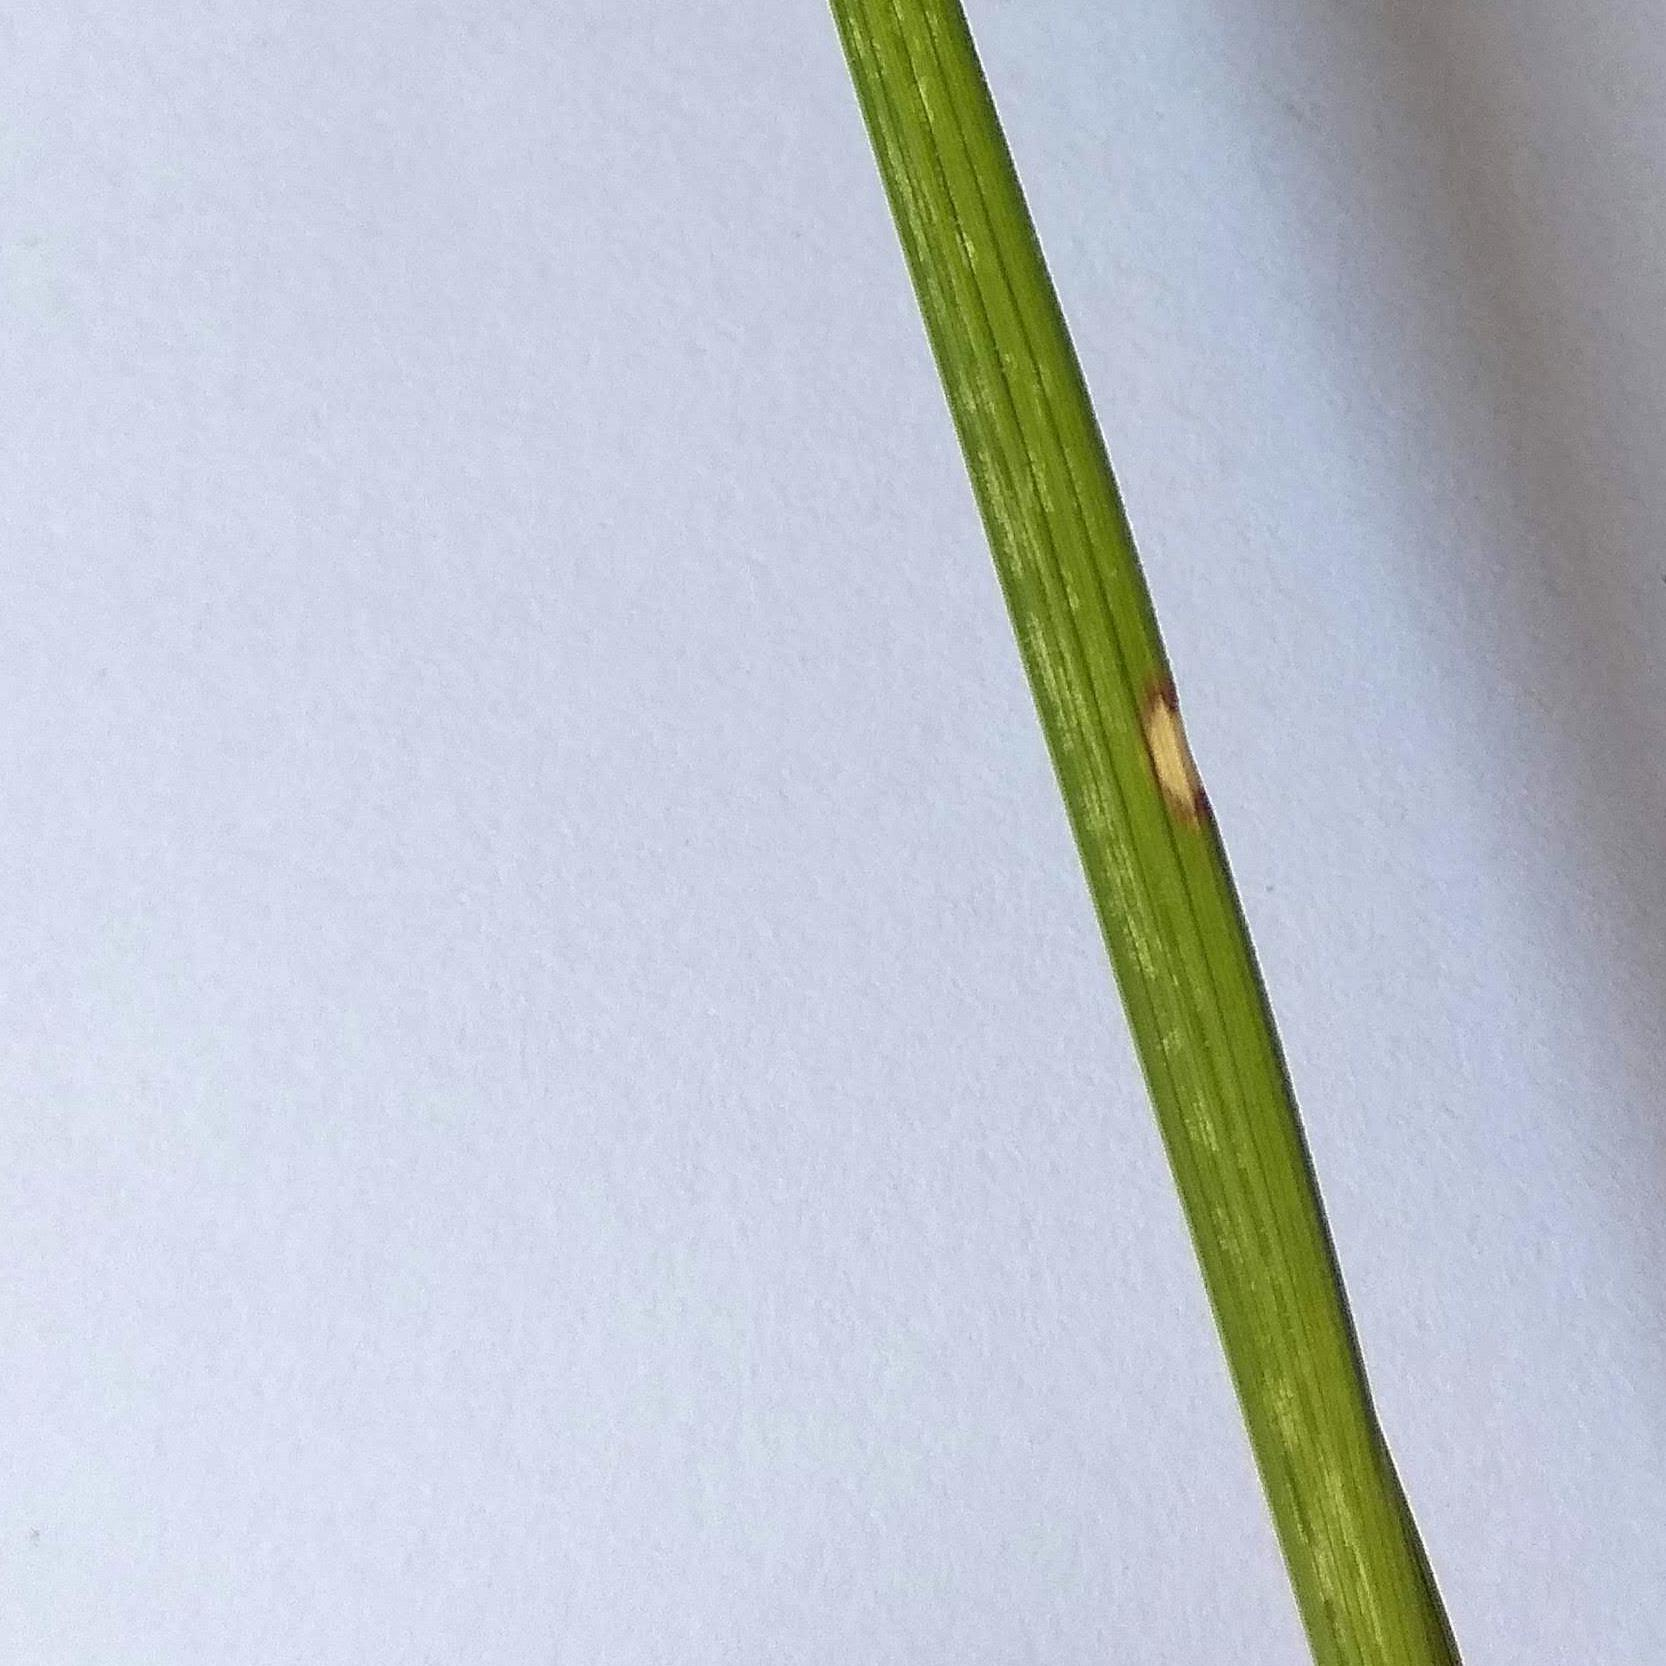1 RiceBlast: (1105, 651, 1253, 864)
